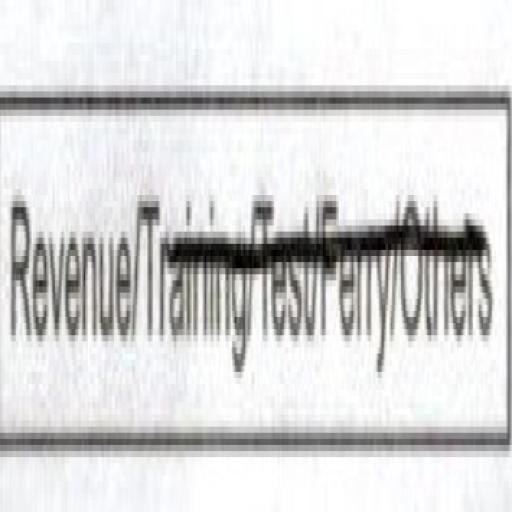check: (6, 78, 140, 444)
